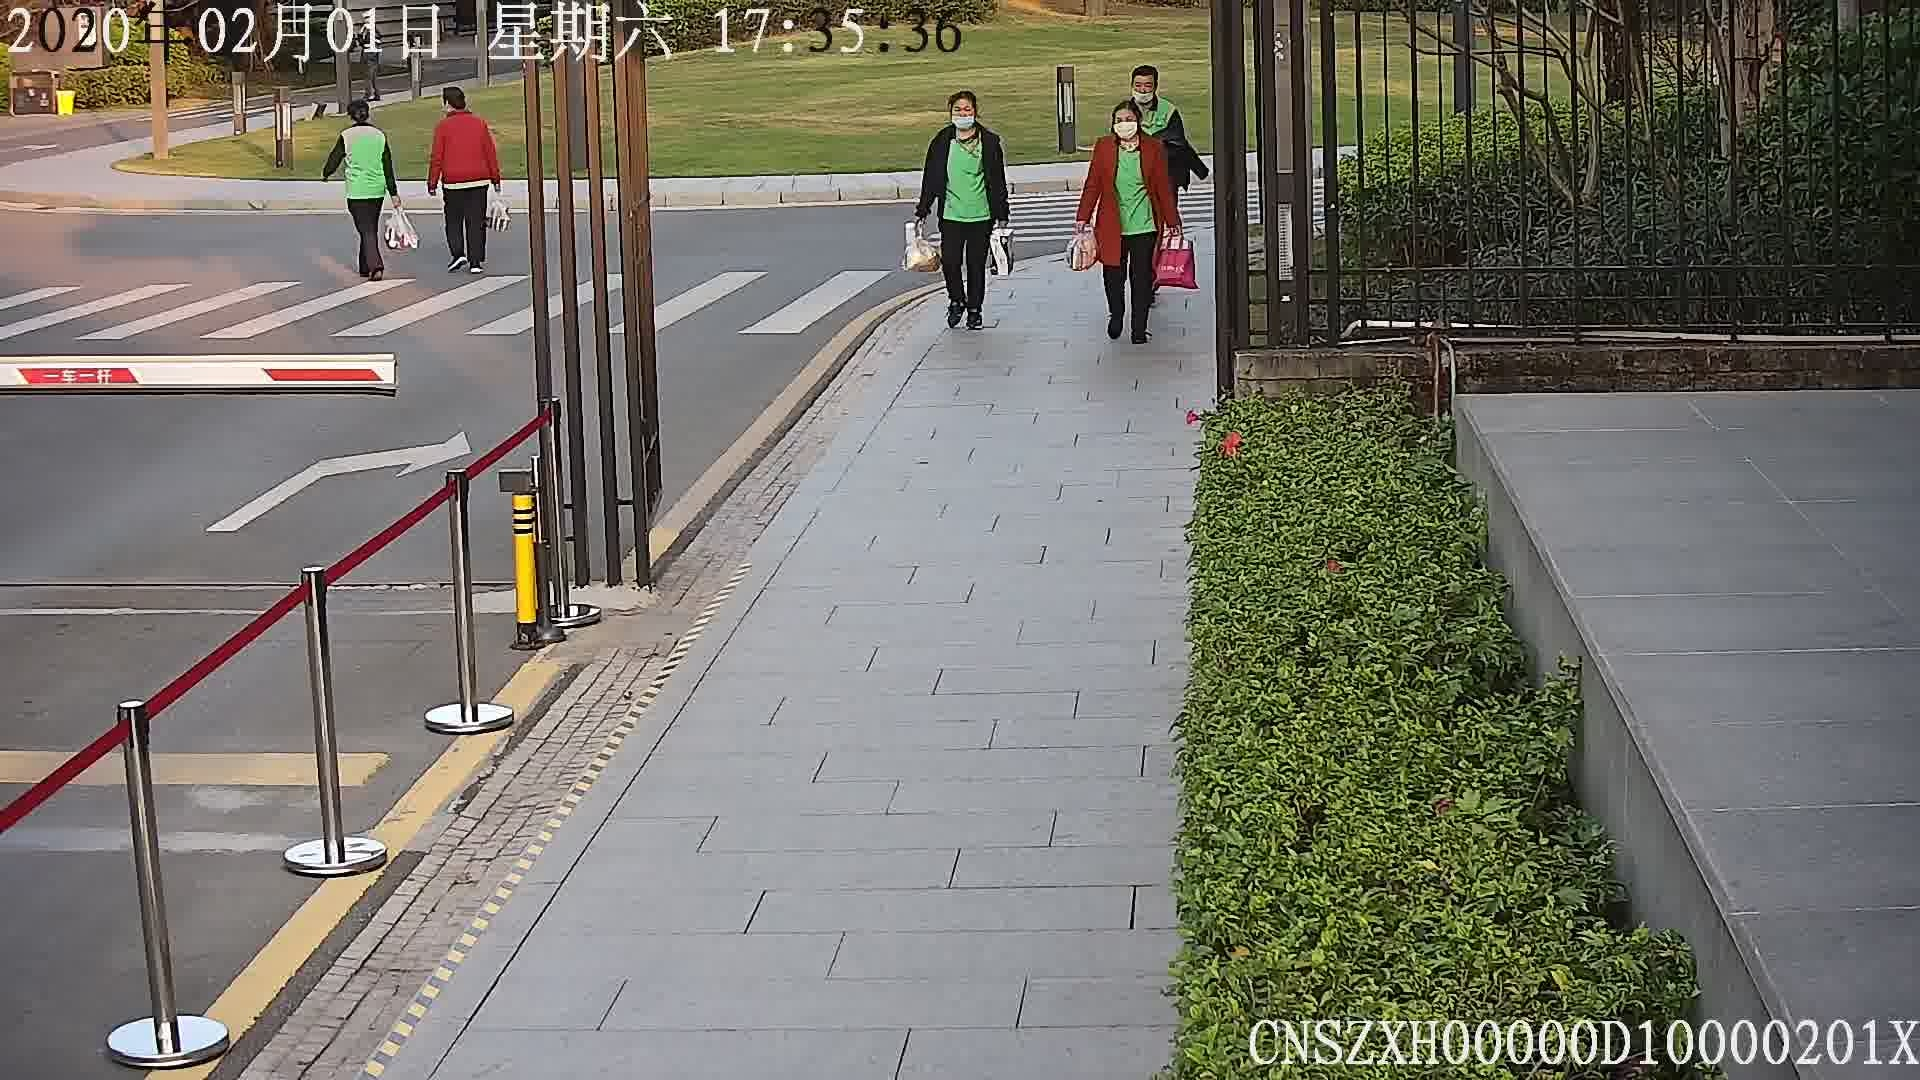face: (951, 96, 976, 130), (1132, 73, 1156, 104), (1113, 109, 1137, 138)
mask: (1113, 121, 1137, 138), (1131, 88, 1155, 104), (953, 113, 975, 127)
person: (1088, 98, 1171, 164), (926, 87, 1007, 152), (1121, 61, 1182, 122), (431, 83, 493, 138), (333, 97, 393, 146)
